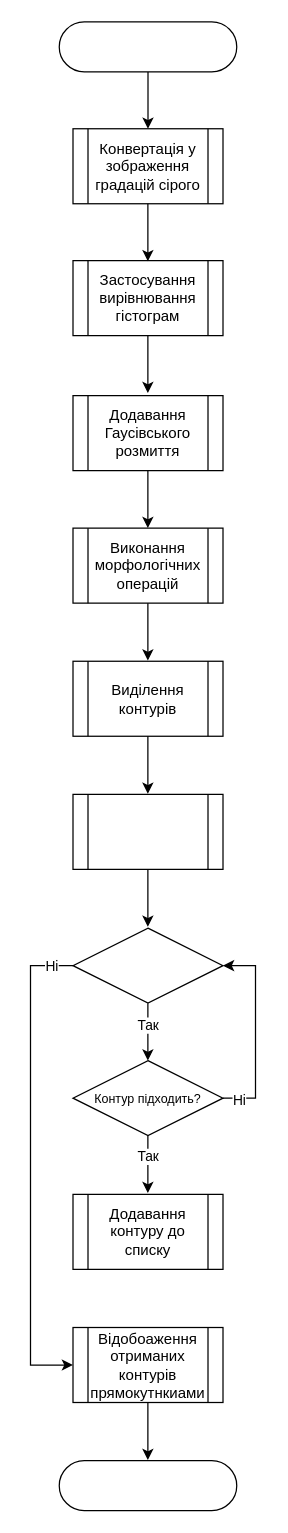
Image size: 288x1533. Some labels were removed from this diagram. The box of each missing label's shape, as (x1, y1, x2, y2) in pixels:
Виділення та застосування регіону інтересу: (72, 793, 223, 869)
Контури лишилися?: (72, 927, 223, 1003)
Кінець: (58, 1459, 237, 1511)
Початок: (58, 21, 237, 72)
